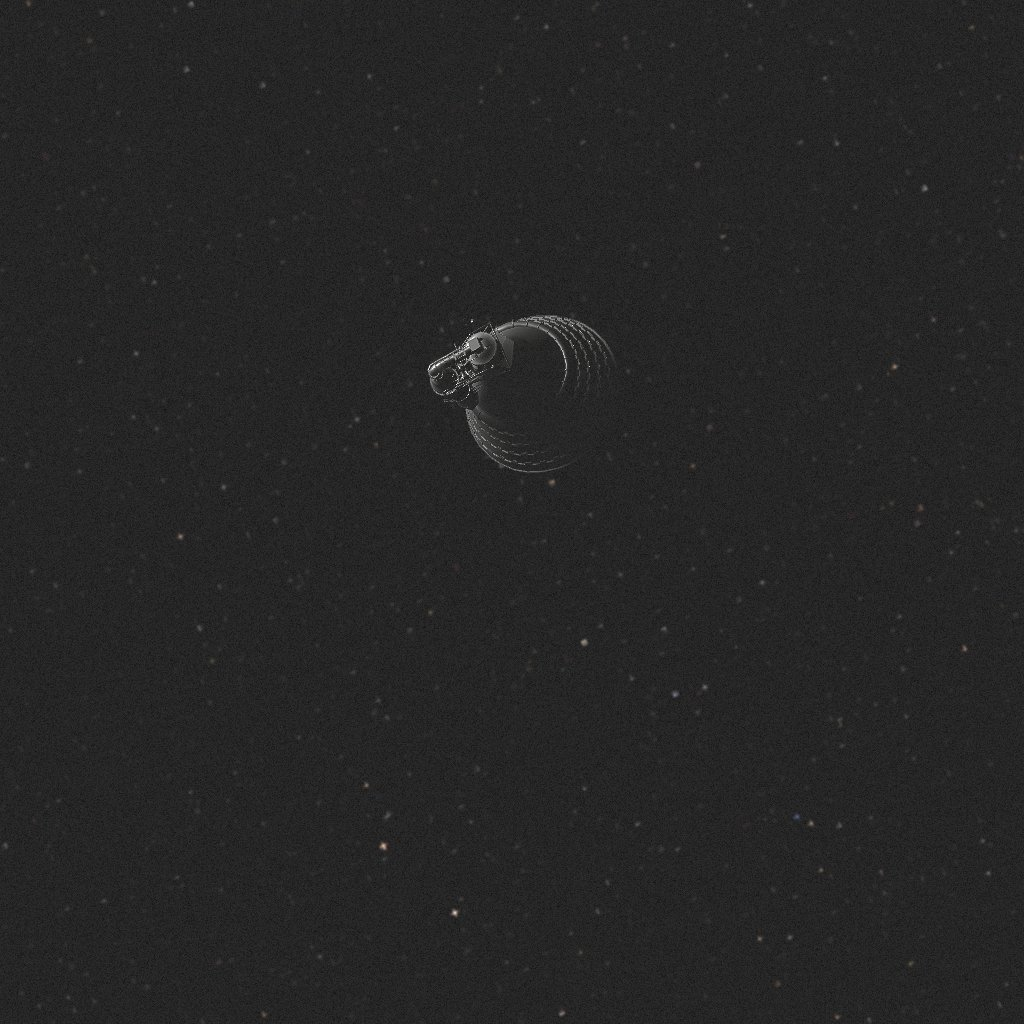debris: (428, 315, 620, 473)
